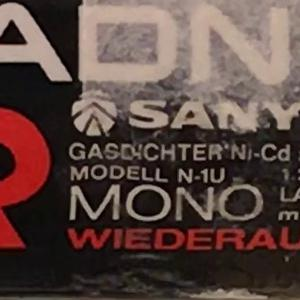keyword: (215, 135, 299, 161)
